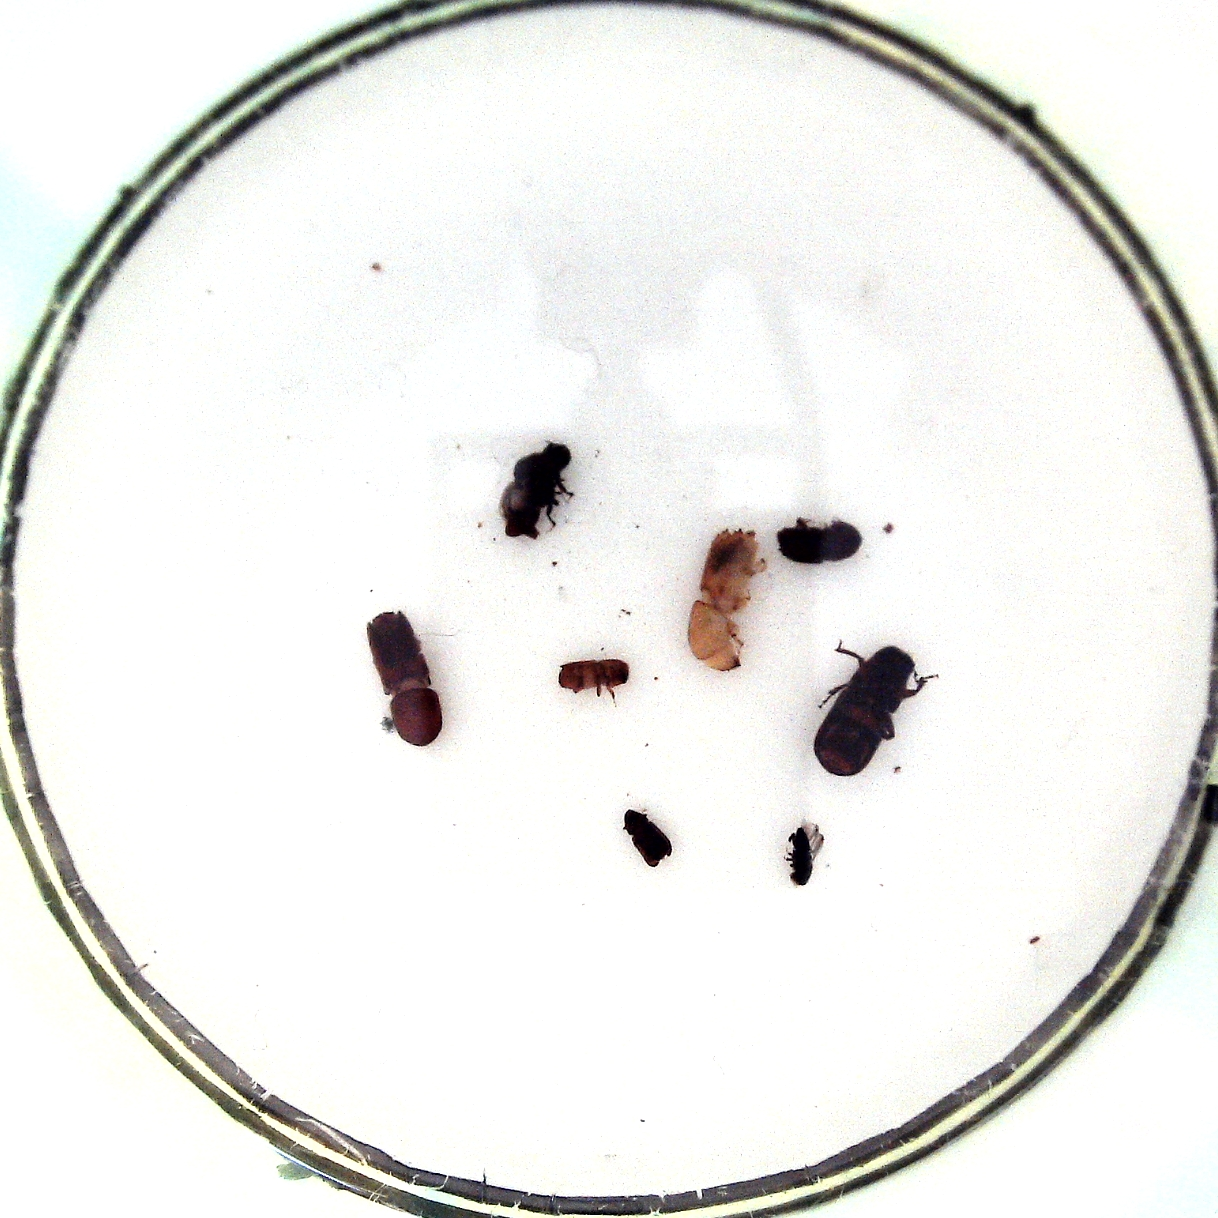Boerner: (366, 611, 443, 747), (688, 526, 758, 671)
Leconte: (814, 644, 917, 777)
acuminatus: (790, 828, 812, 886)
armandi: (505, 443, 571, 539)
coleoptera: (623, 810, 671, 867), (558, 659, 629, 692)
linnaeus: (776, 521, 863, 565)
